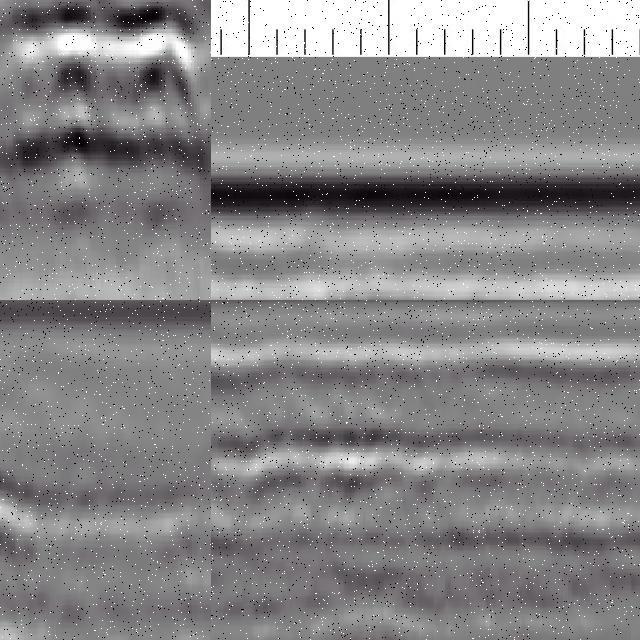loose: (1, 1, 205, 200), (222, 424, 465, 514), (1, 468, 74, 640)
